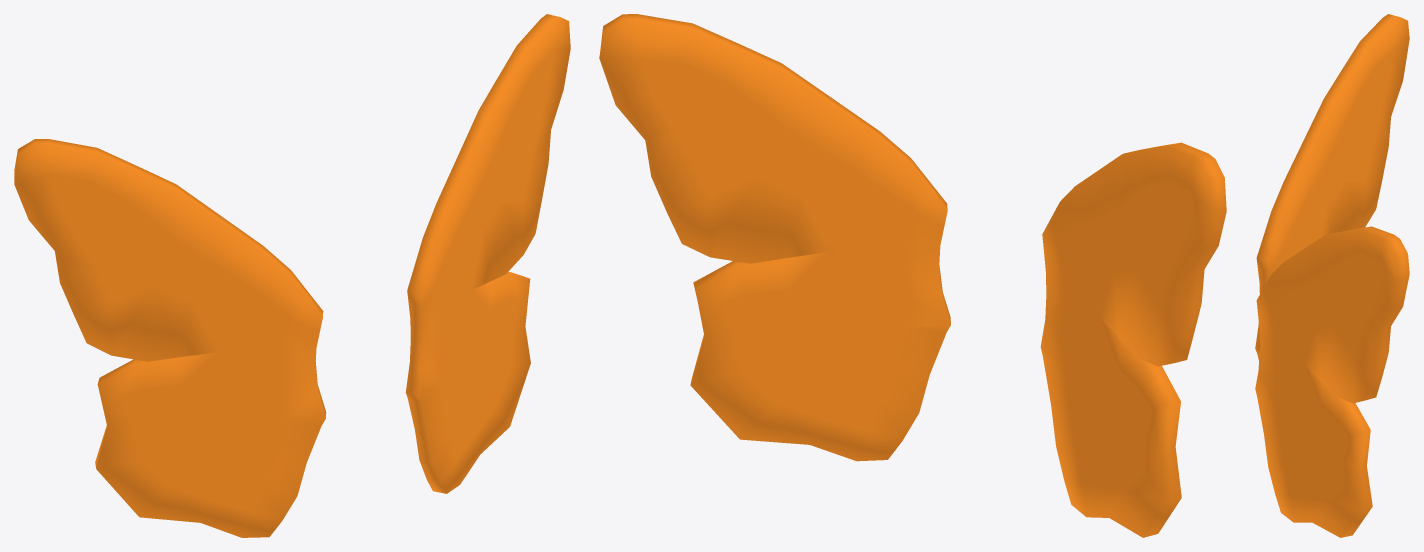
File: accessory-butterflywings.glb
3 renders of one model, left to right at view 1: azimuth 30°, elevation 25°; view 2: azimuth 150°, elevation 25°; view 3: azimuth 270°, elevation 25°, orthographic. The views are drawn at different scales.
Visible parts, largest first — view 1: accessory__Retopo_Plane__0; view 2: accessory__Retopo_Plane__0; view 3: accessory__Retopo_Plane__0.
Part boxes in pixels (<box>): accessory__Retopo_Plane__0: <box>14,14,570,537</box>; accessory__Retopo_Plane__0: <box>599,14,1226,537</box>; accessory__Retopo_Plane__0: <box>1255,14,1409,537</box>.
Size of the model in its own units: 0.5578 by 0.375 by 0.151.
